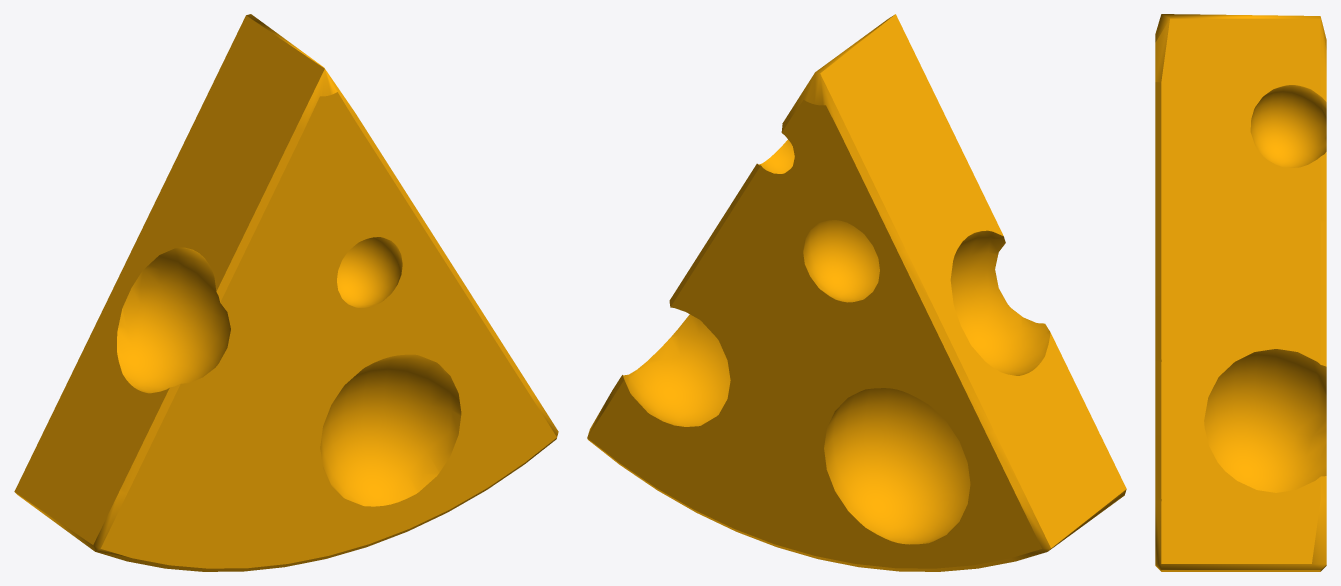
Rendered from cheese.fbx.
3 views of the same model, side by side, from view 1: azimuth 30°, elevation 25°; view 2: azimuth 150°, elevation 25°; view 3: azimuth 270°, elevation 25° (orthographic). The views are drawn at different scales.
Visible parts, largest first — view 1: Connect, Sphere_5, Sphere_1, Sphere_6; view 2: Connect, Sphere_3, Sphere_1, Sphere, Sphere_4, Sphere_2; view 3: Connect, Sphere, Sphere_2.
Part boxes in pixels (bbox=[...]): Connect: bbox=[14, 14, 558, 571]; Sphere_5: bbox=[320, 354, 461, 506]; Sphere_1: bbox=[117, 247, 230, 393]; Sphere_6: bbox=[337, 237, 402, 308]; Connect: bbox=[587, 14, 1126, 571]; Sphere_3: bbox=[824, 388, 970, 544]; Sphere_1: bbox=[950, 230, 1050, 375]; Sphere: bbox=[622, 314, 730, 426]; Sphere_4: bbox=[803, 220, 879, 302]; Sphere_2: bbox=[758, 140, 794, 173]; Connect: bbox=[1155, 14, 1326, 571]; Sphere: bbox=[1204, 349, 1326, 492]; Sphere_2: bbox=[1250, 85, 1326, 167].
Size of the model in its own units: 92.13 by 92.48 by 28.43.
